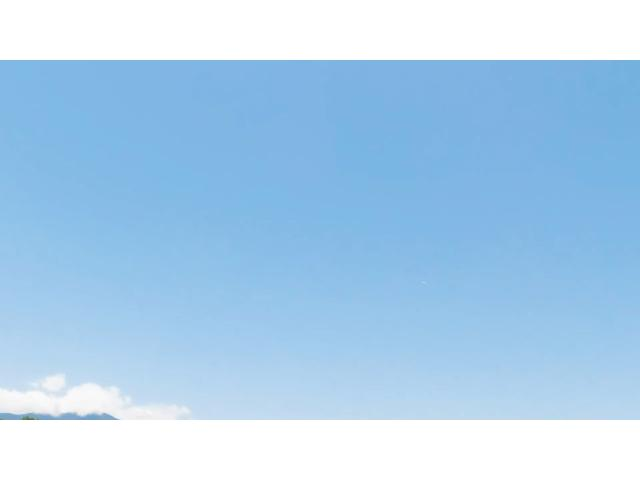Anti-Drone: (416, 277, 438, 292)
